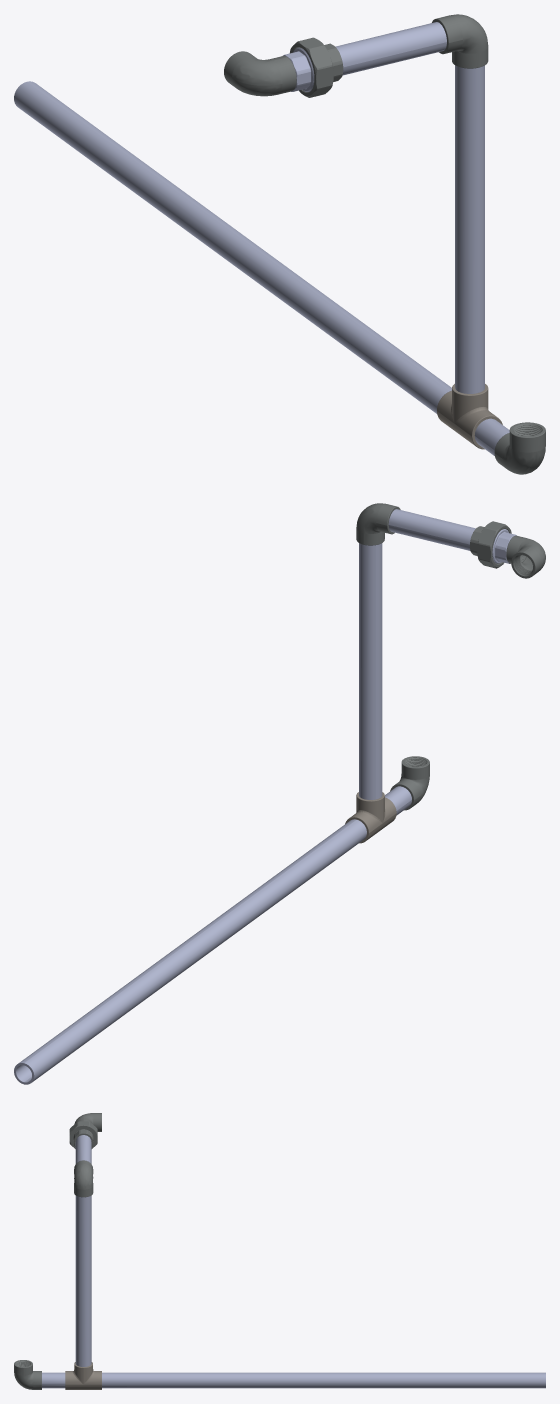
3 views of the same model, one above another, from view 1: azimuth 30°, elevation 25°; view 2: azimuth 150°, elevation 25°; view 3: azimuth 270°, elevation 25° (orthographic). The views are drawn at different scales.
Bounding box in the file's own units: 256 × 431 × 923.
